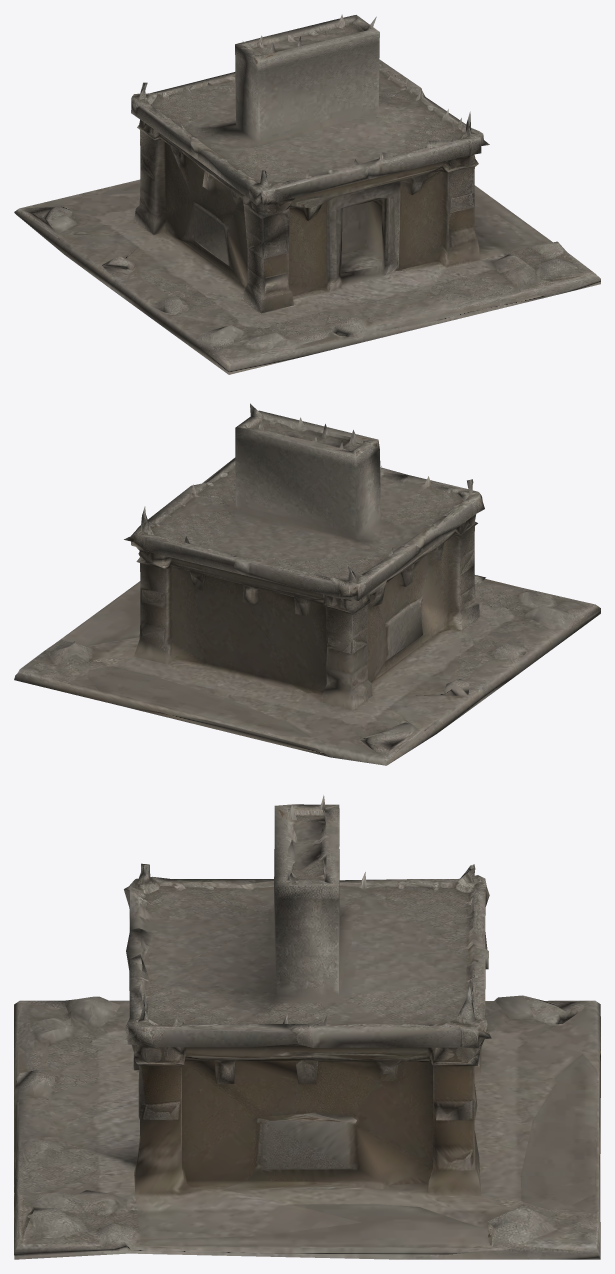
Rendered from crush_pillar.glb.
The picture shows the model from 3 angles, top to bottom: view 1: azimuth 30°, elevation 25°; view 2: azimuth 150°, elevation 25°; view 3: azimuth 270°, elevation 25°; orthographic projection. The views are drawn at different scales.
Bounding box in the file's own units: 1.9 × 1.09 × 1.9.
1 material, 1 textured.
